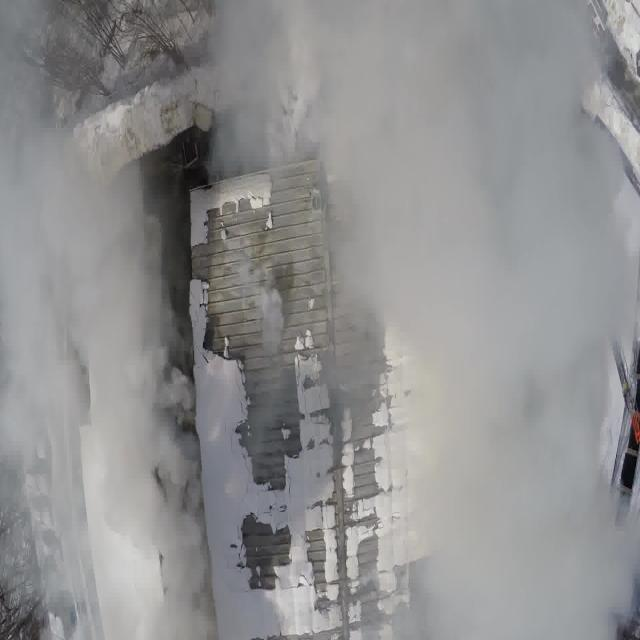Smoke: (7, 12, 633, 640)
